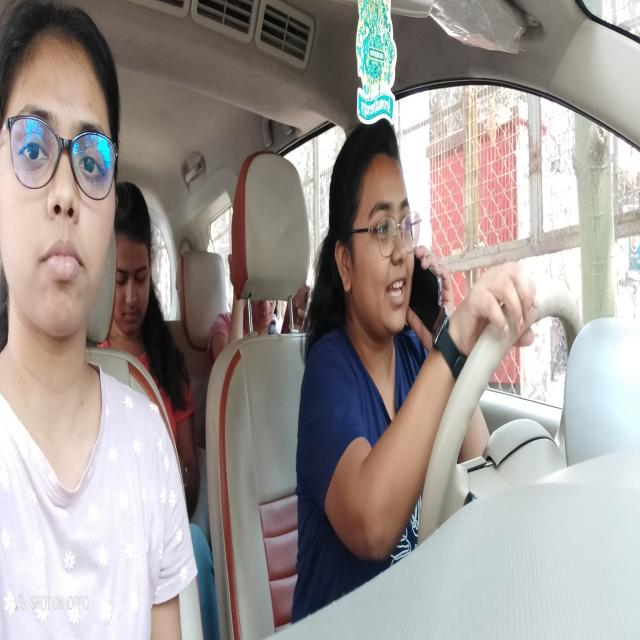mobile: (408, 247, 444, 343)
person: (5, 8, 114, 354), (324, 124, 414, 341), (113, 172, 155, 344), (249, 294, 279, 337)
